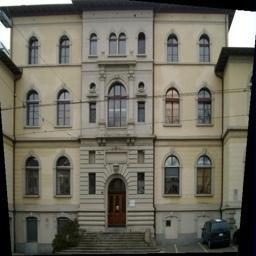building: (12, 0, 226, 238)
